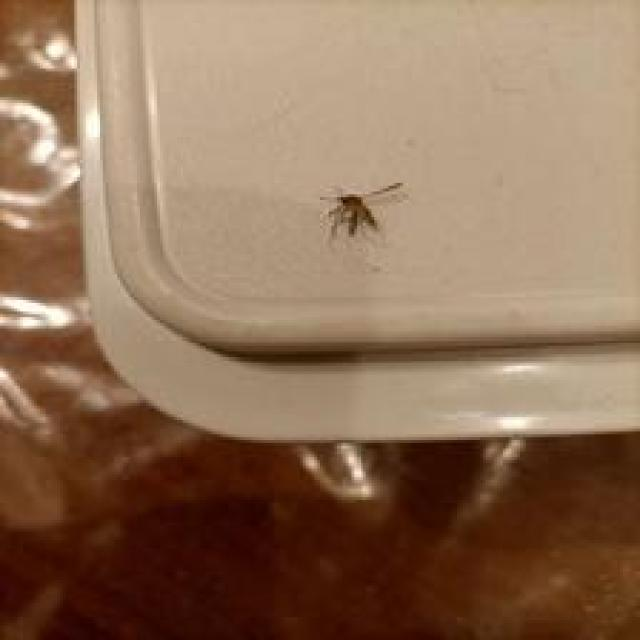Culex: (319, 178, 404, 238)
